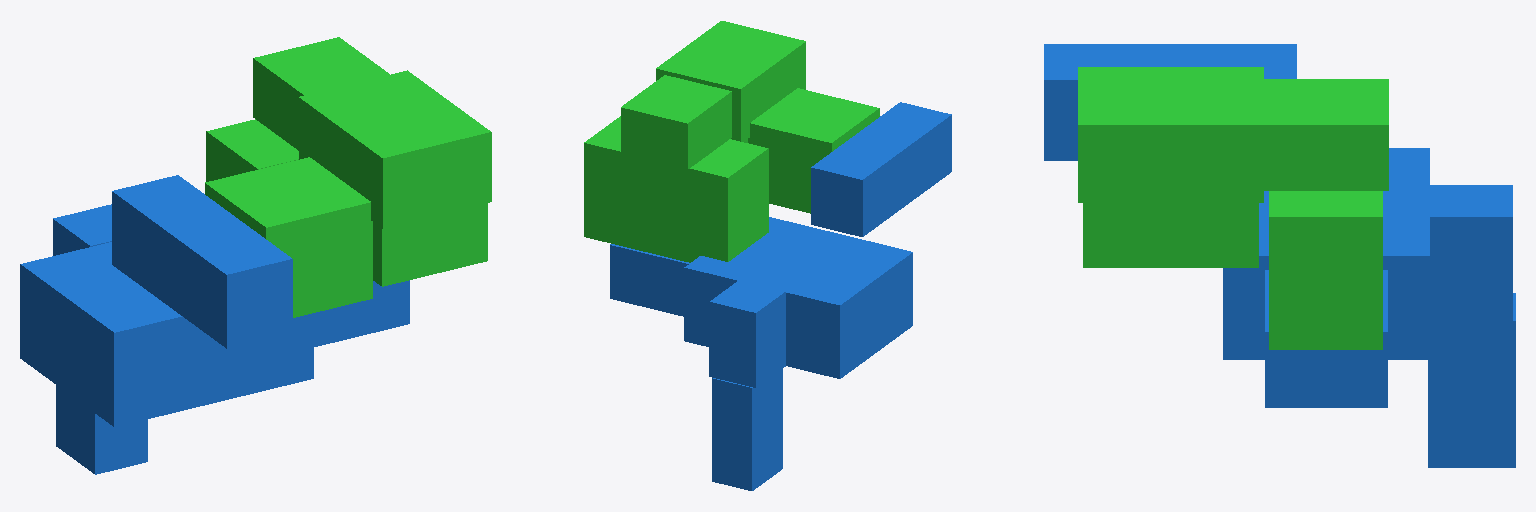
URDF robot description (robot):
<robot name = "robot">
    <link name="Link0">
        <inertial>
            <origin xyz="0 0 2" rpy="0 0 0"/>
            <mass value="0.17356801524454343" />
            <inertia ixx="100" ixy="0" ixz="0" iyy="100" iyz="0" izz="100" />
        </inertial>
        <visual>
            <origin xyz="0 0 2" rpy="0 0 0"/>
            <geometry>
                <box size="0.3792514080774897 1.1360201939444052 0.4028621293958289" />
            </geometry>
            <material name="No Sensor">
                <color rgba="0.184 0.553 0.933 1.0"/>
            </material>
        </visual>
        <collision>
            <origin xyz="0 0 2" rpy="0 0 0"/>
            <geometry>
                <box size="0.3792514080774897 1.1360201939444052 0.4028621293958289" />
            </geometry>
        </collision>
    </link>
    <joint name="Link0_Link1" type="revolute">
       <parent link="Link0"/>
       <child  link="Link1"/>
       <origin rpy="0 0 0" xyz="0.18962570403874485 0 2" />
       <axis xyz="1 0 0"/>
       <limit effort="0.0" lower="-3.14159" upper="3.14159" velocity="0.0"/>
    </joint>
    <link name="Link1">
        <inertial>
            <origin xyz="0.30525817849660386 0 0" rpy="0 0 0"/>
            <mass value="0.19767583554200951" />
            <inertia ixx="100" ixy="0" ixz="0" iyy="100" iyz="0" izz="100" />
        </inertial>
        <visual>
            <origin xyz="0.30525817849660386 0 0" rpy="0 0 0"/>
            <geometry>
                <box size="0.6105163569932077 0.6111619384814453 0.5297853922706043" />
            </geometry>
            <material name="Sensor">
                <color rgba="0.239 0.875 0.282 1.0"/>
            </material>
        </visual>
        <collision>
            <origin xyz="0.30525817849660386 0 0" rpy="0 0 0"/>
            <geometry>
                <box size="0.6105163569932077 0.6111619384814453 0.5297853922706043" />
            </geometry>
        </collision>
    </link>
    <joint name="Link1_Link2" type="revolute">
       <parent link="Link1"/>
       <child  link="Link2"/>
       <origin rpy="0 0 0" xyz="0.6105163569932077 0.0 0.0" />
       <axis xyz="0 0 1"/>
       <limit effort="0.0" lower="-3.14159" upper="3.14159" velocity="0.0"/>
    </joint>
    <link name="Link2">
        <inertial>
            <origin xyz="0.30240212192706506 0.0 0.0" rpy="0 0 0"/>
            <mass value="0.15756028019481774" />
            <inertia ixx="100" ixy="0" ixz="0" iyy="100" iyz="0" izz="100" />
        </inertial>
        <visual>
            <origin xyz="0.30240212192706506 0.0 0.0" rpy="0 0 0"/>
            <geometry>
                <box size="0.6048042438541301 0.79300156482881 0.3285170166577439" />
            </geometry>
            <material name="Sensor">
                <color rgba="0.239 0.875 0.282 1.0"/>
            </material>
        </visual>
        <collision>
            <origin xyz="0.30240212192706506 0.0 0.0" rpy="0 0 0"/>
            <geometry>
                <box size="0.6048042438541301 0.79300156482881 0.3285170166577439" />
            </geometry>
        </collision>
    </link>
    <joint name="Link2_Link3" type="revolute">
       <parent link="Link2"/>
       <child  link="Link3"/>
       <origin rpy="0 0 0" xyz="0.30240212192706506 0.0 0.16425850832887195" />
       <axis xyz="0 1 0"/>
       <limit effort="0.0" lower="-3.14159" upper="3.14159" velocity="0.0"/>
    </joint>
    <link name="Link3">
        <inertial>
            <origin xyz="0.0 0.0 0.19212470498986273" rpy="0 0 0"/>
            <mass value="0.19942036030279875" />
            <inertia ixx="100" ixy="0" ixz="0" iyy="100" iyz="0" izz="100" />
        </inertial>
        <visual>
            <origin xyz="0.0 0.0 0.19212470498986273" rpy="0 0 0"/>
            <geometry>
                <box size="0.6228696711111941 0.8332188810001392 0.38424940997972545" />
            </geometry>
            <material name="Sensor">
                <color rgba="0.239 0.875 0.282 1.0"/>
            </material>
        </visual>
        <collision>
            <origin xyz="0.0 0.0 0.19212470498986273" rpy="0 0 0"/>
            <geometry>
                <box size="0.6228696711111941 0.8332188810001392 0.38424940997972545" />
            </geometry>
        </collision>
    </link>
    <joint name="Link3_Link4" type="revolute">
       <parent link="Link3"/>
       <child  link="Link4"/>
       <origin rpy="0 0 0" xyz="0.0 0.4166094405000696 0.19212470498986273" />
       <axis xyz="1 0 0"/>
       <limit effort="0.0" lower="-3.14159" upper="3.14159" velocity="0.0"/>
    </joint>
    <link name="Link4">
        <inertial>
            <origin xyz="0.0 0.28138954127882704 0.0" rpy="0 0 0"/>
            <mass value="0.09003974379050246" />
            <inertia ixx="100" ixy="0" ixz="0" iyy="100" iyz="0" izz="100" />
        </inertial>
        <visual>
            <origin xyz="0.0 0.28138954127882704 0.0" rpy="0 0 0"/>
            <geometry>
                <box size="0.4929879452919641 0.5627790825576541 0.3245338511835042" />
            </geometry>
            <material name="Sensor">
                <color rgba="0.239 0.875 0.282 1.0"/>
            </material>
        </visual>
        <collision>
            <origin xyz="0.0 0.28138954127882704 0.0" rpy="0 0 0"/>
            <geometry>
                <box size="0.4929879452919641 0.5627790825576541 0.3245338511835042" />
            </geometry>
        </collision>
    </link>
    <joint name="Link4_Link5" type="revolute">
       <parent link="Link4"/>
       <child  link="Link5"/>
       <origin rpy="0 0 0" xyz="0.0 0.28138954127882704 -0.1622669255917521" />
       <axis xyz="1 0 0"/>
       <limit effort="0.0" lower="-3.14159" upper="3.14159" velocity="0.0"/>
    </joint>
    <link name="Link5">
        <inertial>
            <origin xyz="0.0 0.0 -0.33030050459776494" rpy="0 0 0"/>
            <mass value="0.35871677316196876" />
            <inertia ixx="100" ixy="0" ixz="0" iyy="100" iyz="0" izz="100" />
        </inertial>
        <visual>
            <origin xyz="0.0 0.0 -0.33030050459776494" rpy="0 0 0"/>
            <geometry>
                <box size="1.0576907953019956 0.5133974728261202 0.6606010091955299" />
            </geometry>
            <material name="Sensor">
                <color rgba="0.239 0.875 0.282 1.0"/>
            </material>
        </visual>
        <collision>
            <origin xyz="0.0 0.0 -0.33030050459776494" rpy="0 0 0"/>
            <geometry>
                <box size="1.0576907953019956 0.5133974728261202 0.6606010091955299" />
            </geometry>
        </collision>
    </link>
    <joint name="Link5_Link6" type="revolute">
       <parent link="Link5"/>
       <child  link="Link6"/>
       <origin rpy="0 0 0" xyz="0.0 0.0 -0.6606010091955299" />
       <axis xyz="1 0 0"/>
       <limit effort="0.0" lower="-3.14159" upper="3.14159" velocity="0.0"/>
    </joint>
    <link name="Link6">
        <inertial>
            <origin xyz="0.0 0.0 -0.1888690234897057" rpy="0 0 0"/>
            <mass value="0.13733832896855458" />
            <inertia ixx="100" ixy="0" ixz="0" iyy="100" iyz="0" izz="100" />
        </inertial>
        <visual>
            <origin xyz="0.0 0.0 -0.1888690234897057" rpy="0 0 0"/>
            <geometry>
                <box size="0.6554128659393603 0.5547356362881533 0.3777380469794114" />
            </geometry>
            <material name="No Sensor">
                <color rgba="0.184 0.553 0.933 1.0"/>
            </material>
        </visual>
        <collision>
            <origin xyz="0.0 0.0 -0.1888690234897057" rpy="0 0 0"/>
            <geometry>
                <box size="0.6554128659393603 0.5547356362881533 0.3777380469794114" />
            </geometry>
        </collision>
    </link>
    <joint name="Link6_Link7" type="revolute">
       <parent link="Link6"/>
       <child  link="Link7"/>
       <origin rpy="0 0 0" xyz="-0.32770643296968016 0.0 -0.1888690234897057" />
       <axis xyz="0 1 0"/>
       <limit effort="0.0" lower="-3.14159" upper="3.14159" velocity="0.0"/>
    </joint>
    <link name="Link7">
        <inertial>
            <origin xyz="-0.5717796870359242 0.0 0.0" rpy="0 0 0"/>
            <mass value="0.5505438404033763" />
            <inertia ixx="100" ixy="0" ixz="0" iyy="100" iyz="0" izz="100" />
        </inertial>
        <visual>
            <origin xyz="-0.5717796870359242 0.0 0.0" rpy="0 0 0"/>
            <geometry>
                <box size="1.1435593740718484 0.9313948478763496 0.5168914619254061" />
            </geometry>
            <material name="No Sensor">
                <color rgba="0.184 0.553 0.933 1.0"/>
            </material>
        </visual>
        <collision>
            <origin xyz="-0.5717796870359242 0.0 0.0" rpy="0 0 0"/>
            <geometry>
                <box size="1.1435593740718484 0.9313948478763496 0.5168914619254061" />
            </geometry>
        </collision>
    </link>
    <joint name="Link7_Link8" type="revolute">
       <parent link="Link7"/>
       <child  link="Link8"/>
       <origin rpy="0 0 0" xyz="-0.5717796870359242 0.4656974239381748 0.0" />
       <axis xyz="1 0 0"/>
       <limit effort="0.0" lower="-3.14159" upper="3.14159" velocity="0.0"/>
    </joint>
    <link name="Link8">
        <inertial>
            <origin xyz="0.0 0.18674750804276452 0.0" rpy="0 0 0"/>
            <mass value="0.0673292387241798" />
            <inertia ixx="100" ixy="0" ixz="0" iyy="100" iyz="0" izz="100" />
        </inertial>
        <visual>
            <origin xyz="0.0 0.18674750804276452 0.0" rpy="0 0 0"/>
            <geometry>
                <box size="0.34243092687336907 0.37349501608552904 0.5264364013653792" />
            </geometry>
            <material name="No Sensor">
                <color rgba="0.184 0.553 0.933 1.0"/>
            </material>
        </visual>
        <collision>
            <origin xyz="0.0 0.18674750804276452 0.0" rpy="0 0 0"/>
            <geometry>
                <box size="0.34243092687336907 0.37349501608552904 0.5264364013653792" />
            </geometry>
        </collision>
    </link>
    <joint name="Link8_Link9" type="revolute">
       <parent link="Link8"/>
       <child  link="Link9"/>
       <origin rpy="0 0 0" xyz="0.0 0.18674750804276452 -0.2632182006826896" />
       <axis xyz="0 0 1"/>
       <limit effort="0.0" lower="-3.14159" upper="3.14159" velocity="0.0"/>
    </joint>
    <link name="Link9">
        <inertial>
            <origin xyz="0.0 0.0 -0.362514773785171" rpy="0 0 0"/>
            <mass value="0.08567390884480565" />
            <inertia ixx="100" ixy="0" ixz="0" iyy="100" iyz="0" izz="100" />
        </inertial>
        <visual>
            <origin xyz="0.0 0.0 -0.362514773785171" rpy="0 0 0"/>
            <geometry>
                <box size="0.2990434788655092 0.3951468639570195 0.725029547570342" />
            </geometry>
            <material name="No Sensor">
                <color rgba="0.184 0.553 0.933 1.0"/>
            </material>
        </visual>
        <collision>
            <origin xyz="0.0 0.0 -0.362514773785171" rpy="0 0 0"/>
            <geometry>
                <box size="0.2990434788655092 0.3951468639570195 0.725029547570342" />
            </geometry>
        </collision>
    </link>
</robot>

--- Facts derived from the render (not from the file) ---
3 views of the same robot in one strip: view 1: azimuth 30°, elevation 25°; view 2: azimuth 150°, elevation 25°; view 3: azimuth 270°, elevation 25° (orthographic).
Model robot with 10 links and 9 joints (9 revolute), rooted at Link0, posed every joint at zero.
Visible links, largest first — view 1: Link7, Link3, Link0, Link1, Link4, Link2, Link9, Link5, Link6, Link8; view 2: Link7, Link5, Link0, Link3, Link1, Link4, Link9, Link8, Link6; view 3: Link3, Link5, Link4, Link7, Link9, Link8, Link2, Link0, Link6.
Link boxes in pixels (bbox=[...]): Link7: bbox=[20, 242, 313, 426]; Link3: bbox=[299, 70, 491, 228]; Link0: bbox=[112, 175, 292, 348]; Link1: bbox=[205, 157, 372, 317]; Link4: bbox=[253, 37, 389, 150]; Link2: bbox=[373, 203, 487, 286]; Link9: bbox=[56, 385, 147, 474]; Link5: bbox=[206, 119, 298, 181]; Link6: bbox=[314, 280, 409, 346]; Link8: bbox=[53, 204, 111, 255]; Link7: bbox=[684, 217, 912, 378]; Link5: bbox=[584, 116, 768, 262]; Link0: bbox=[811, 102, 951, 236]; Link3: bbox=[656, 21, 805, 141]; Link1: bbox=[748, 88, 879, 213]; Link4: bbox=[621, 75, 731, 169]; Link9: bbox=[712, 369, 782, 490]; Link8: bbox=[709, 280, 785, 387]; Link6: bbox=[610, 244, 689, 316]; Link3: bbox=[1078, 67, 1263, 202]; Link5: bbox=[1269, 191, 1382, 349]; Link4: bbox=[1264, 79, 1388, 190]; Link7: bbox=[1223, 148, 1429, 359]; Link9: bbox=[1428, 293, 1515, 467]; Link8: bbox=[1430, 185, 1512, 322]; Link2: bbox=[1083, 203, 1258, 267]; Link0: bbox=[1044, 44, 1296, 160]; Link6: bbox=[1265, 270, 1387, 407].
Bounding box of the posed robot: 2 × 2.12 × 2.19 m (x, y, z).
Geometry: primitives only (box / cylinder / sphere), no mesh files.